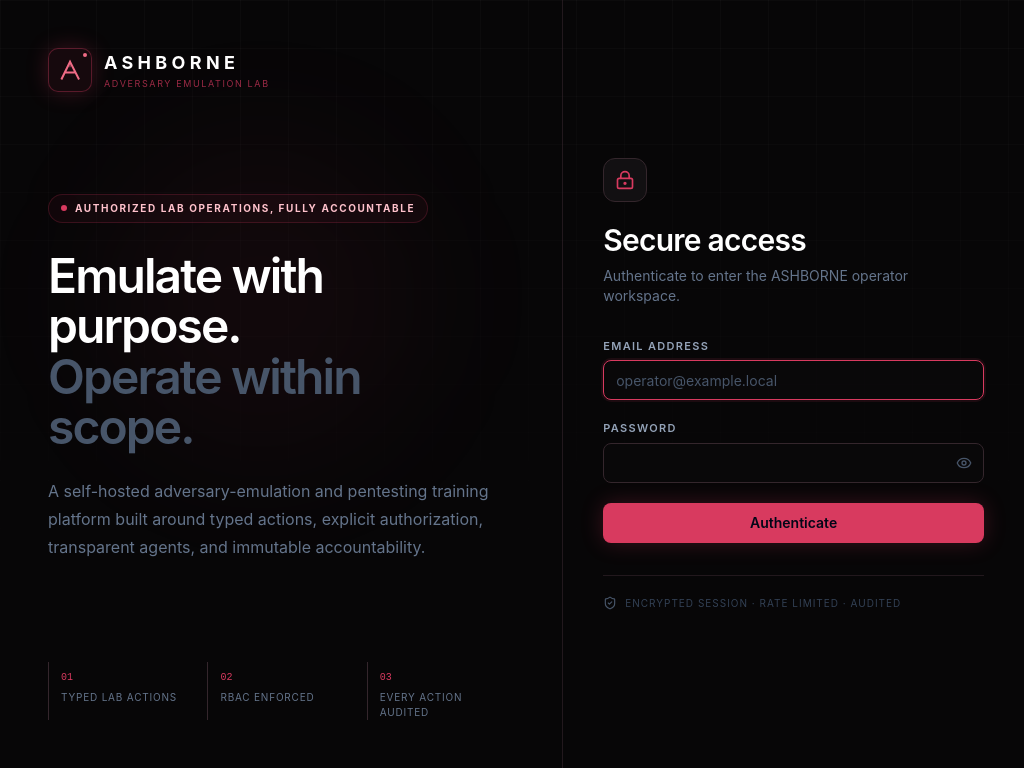
Test: authentication flow › shows a safe invalid-credentials message
This screenshot has width=1024, height=768.
Type "viewer@example.local" into the field labelled "Email address".
click(794, 380); type("viewer@example.local")  # box x1=603 y1=360 x2=984 y2=400
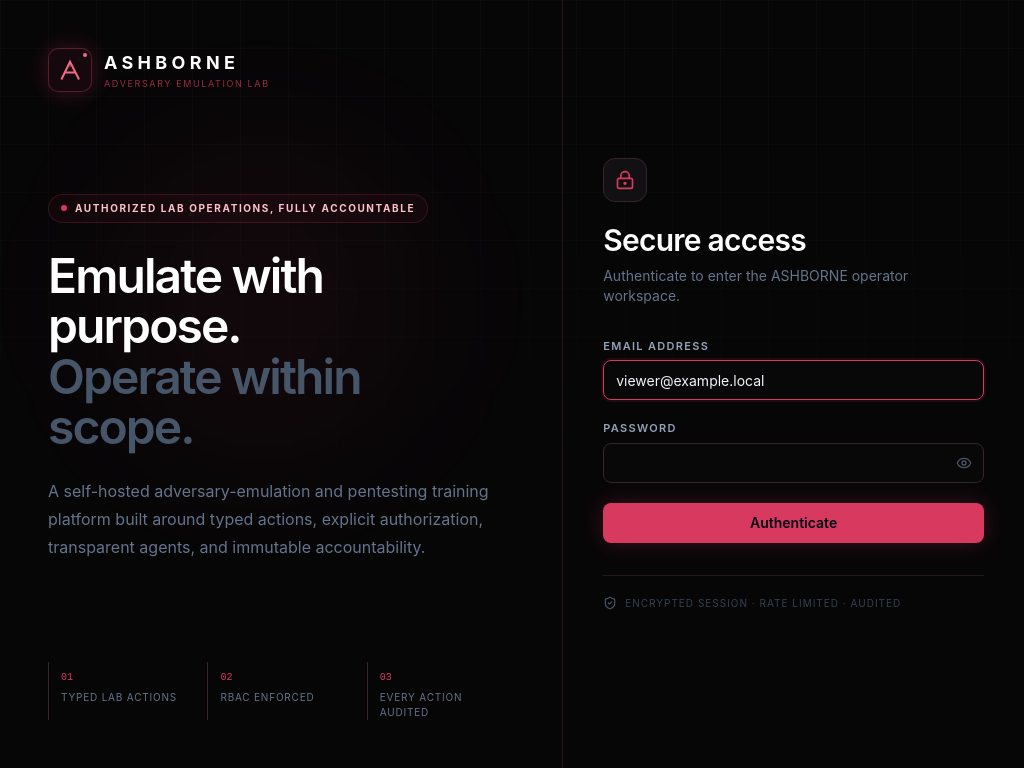
Type "IncorrectPass1" into the password field labelled "Password".
click(794, 462); type("IncorrectPass1")  # box x1=603 y1=442 x2=984 y2=482
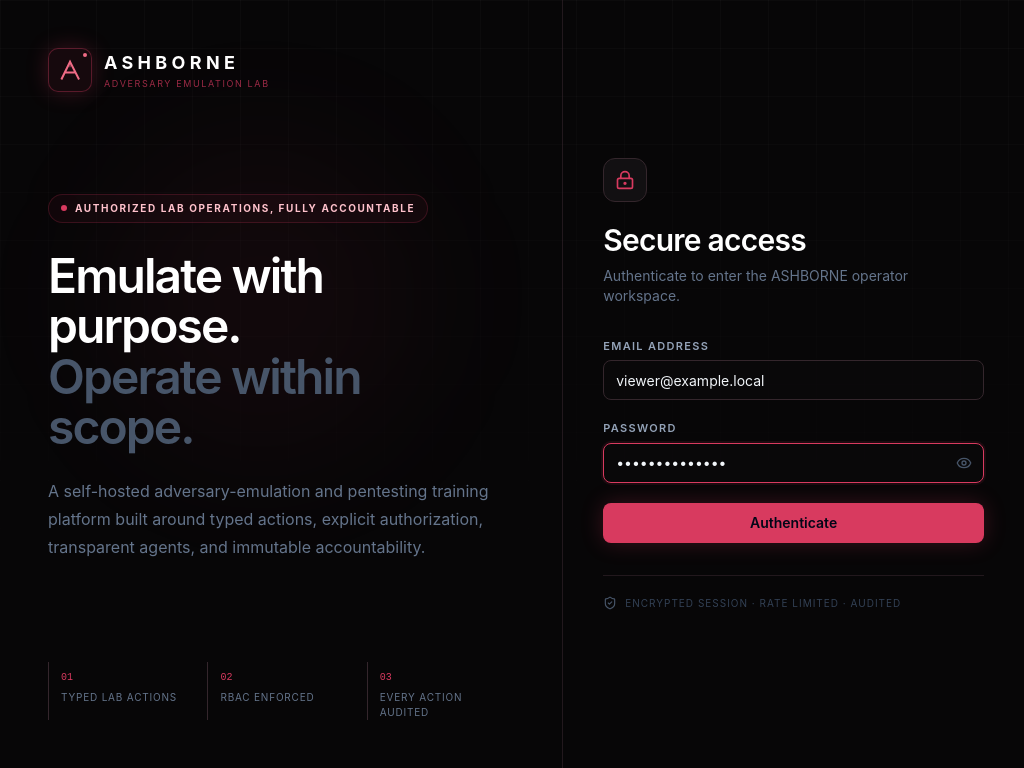
Click the button "Authenticate".
click(794, 522)  # box x1=603 y1=502 x2=984 y2=542
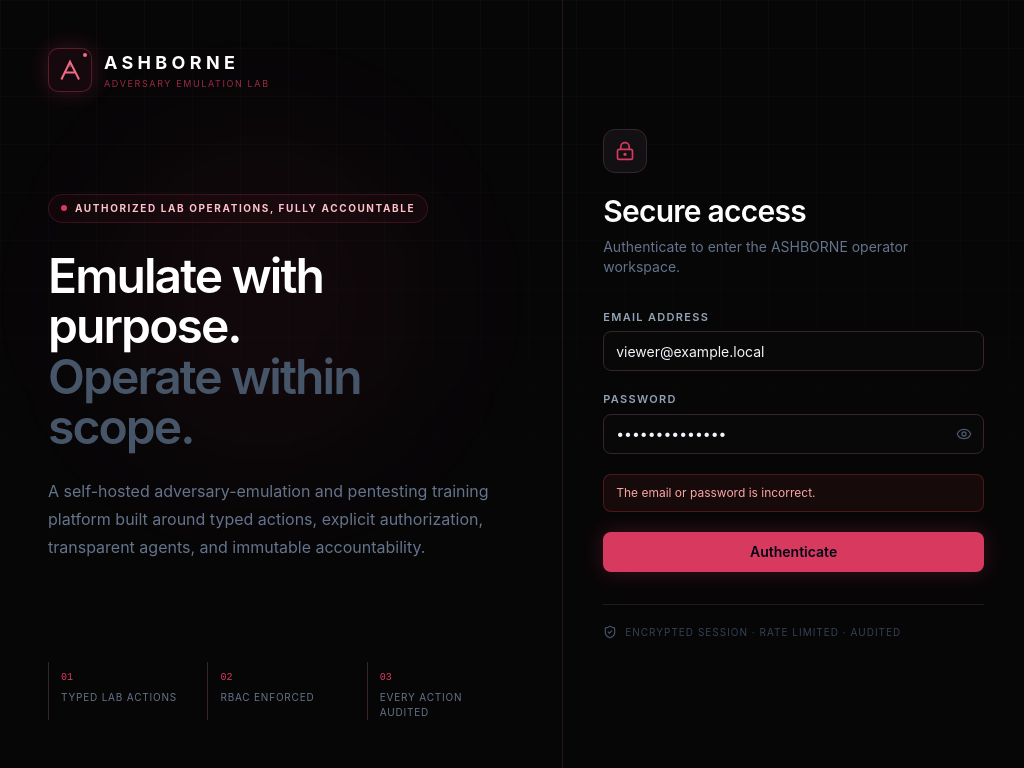
expect the message reads "The email or password is incorrect.": met, box x1=616 y1=484 x2=816 y2=500
